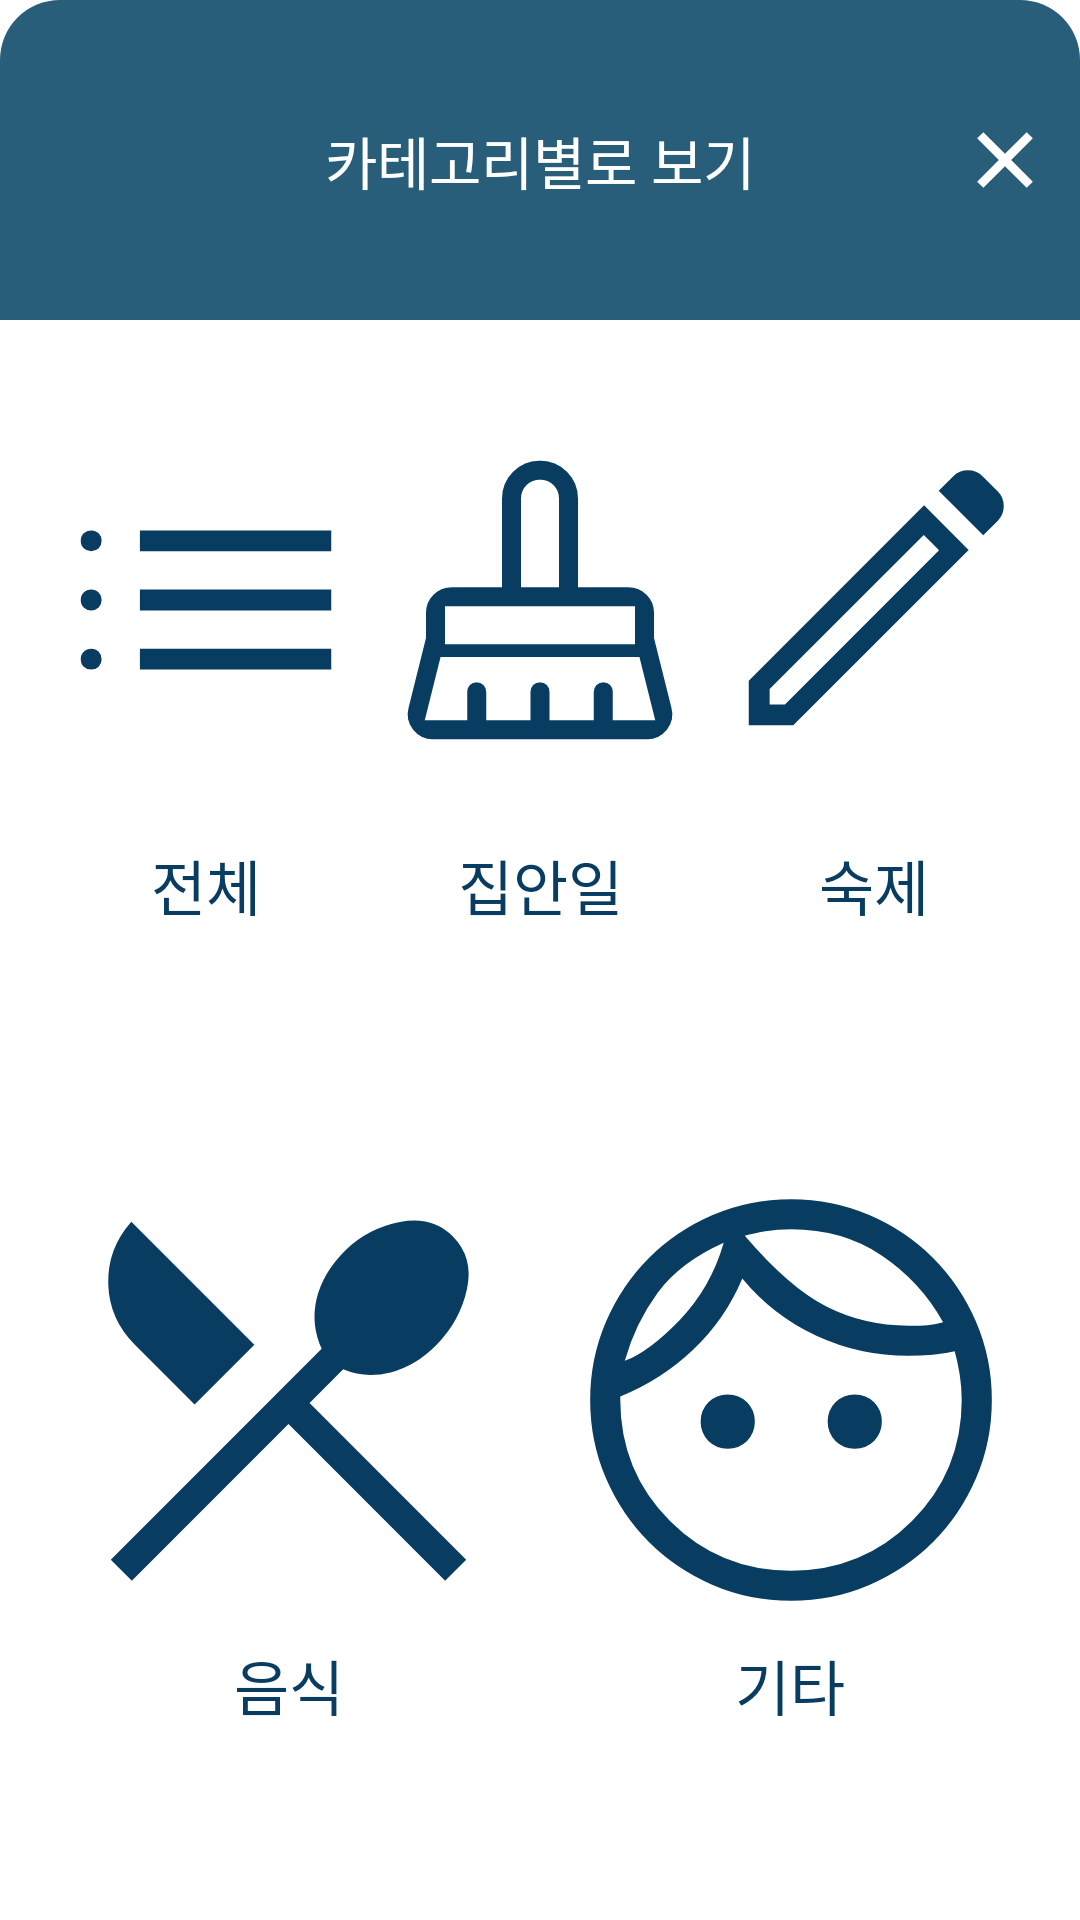

Named icons in this screenshot (1080x1920) and their centers, (x=x, y=y):
all: (x=206, y=600)
close: (x=1005, y=160)
home work: (x=876, y=598)
house work: (x=540, y=600)
